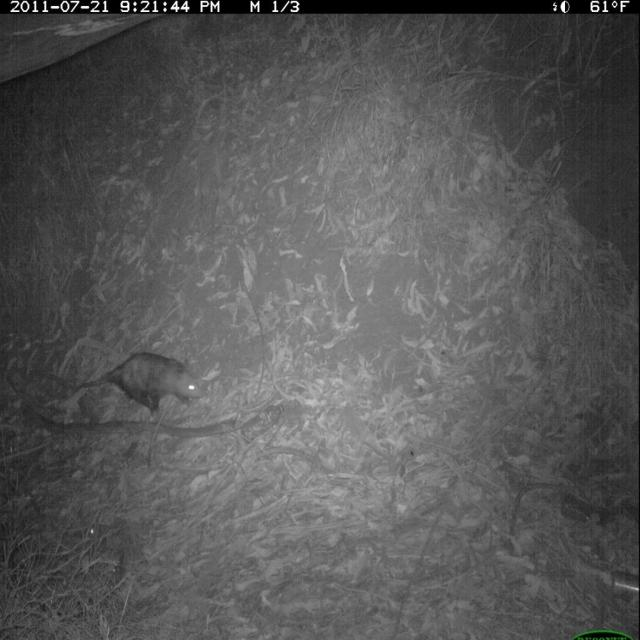opossum: (73, 348, 210, 418)
